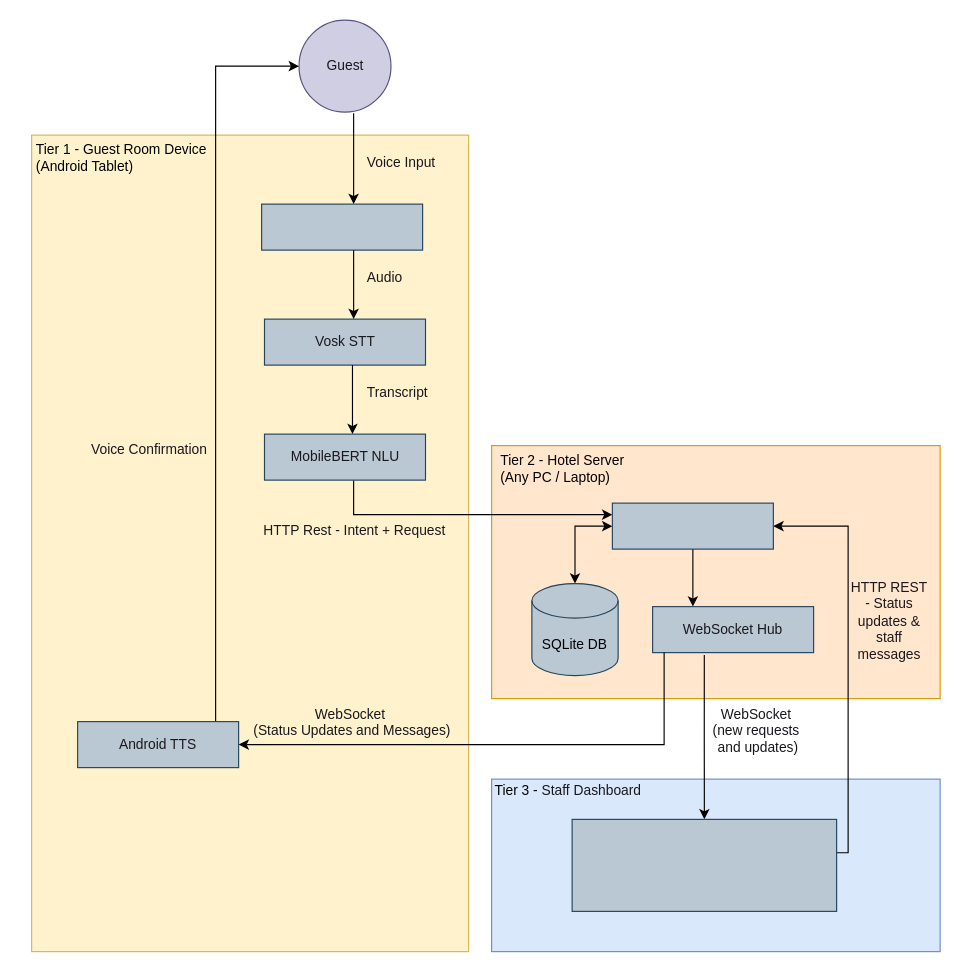
Some shapes in this 960 by 972 pixel diagram are drawn without their labels. The box of each missing label's shape, as (x1, y1, x2, y2) in pixels:
Department Queues Status Management Messaging Real-Time Notification: (571, 818, 837, 911)
FastAPI Backend: (611, 502, 773, 549)
Microphone: (260, 203, 423, 250)
